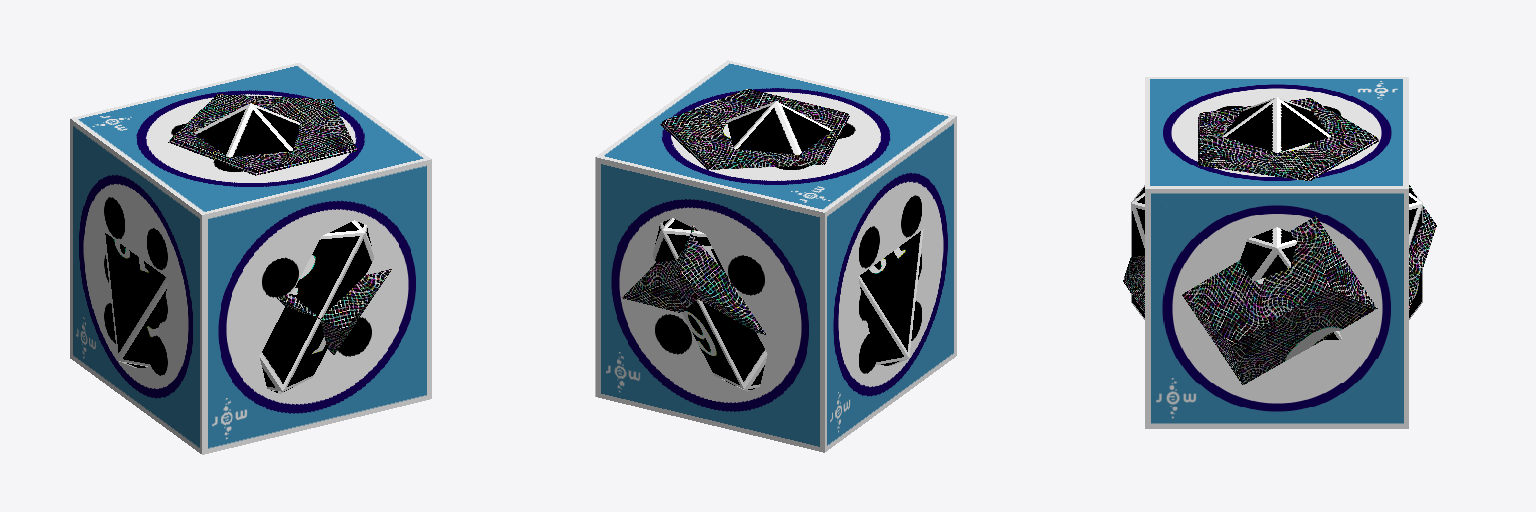
The picture shows the model from 3 angles: view 1: azimuth 30°, elevation 25°; view 2: azimuth 150°, elevation 25°; view 3: azimuth 270°, elevation 25°; orthographic projection.
Visible parts, largest first — view 1: d6, d20, d12; view 2: d6, d20, d12; view 3: d6, d12, d20.
Boxes of the visible parts, x1,y1,x2,y2 form: d6: [70, 63, 431, 454]; d20: [103, 103, 373, 393]; d12: [168, 94, 391, 354]; d6: [595, 60, 956, 452]; d20: [653, 101, 923, 391]; d12: [622, 89, 849, 334]; d6: [1145, 77, 1408, 428]; d12: [1123, 98, 1436, 384]; d20: [1131, 97, 1422, 339].
Size of the model in its own units: 1.22 by 1.3 by 1.19.
3 materials, 3 textured.